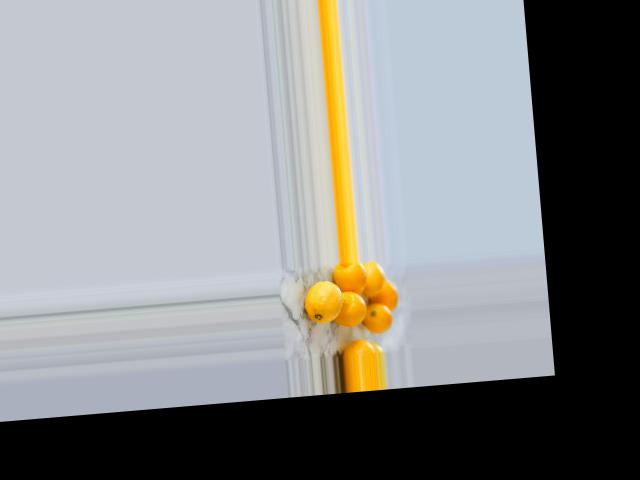lemon: (302, 275, 347, 330)
